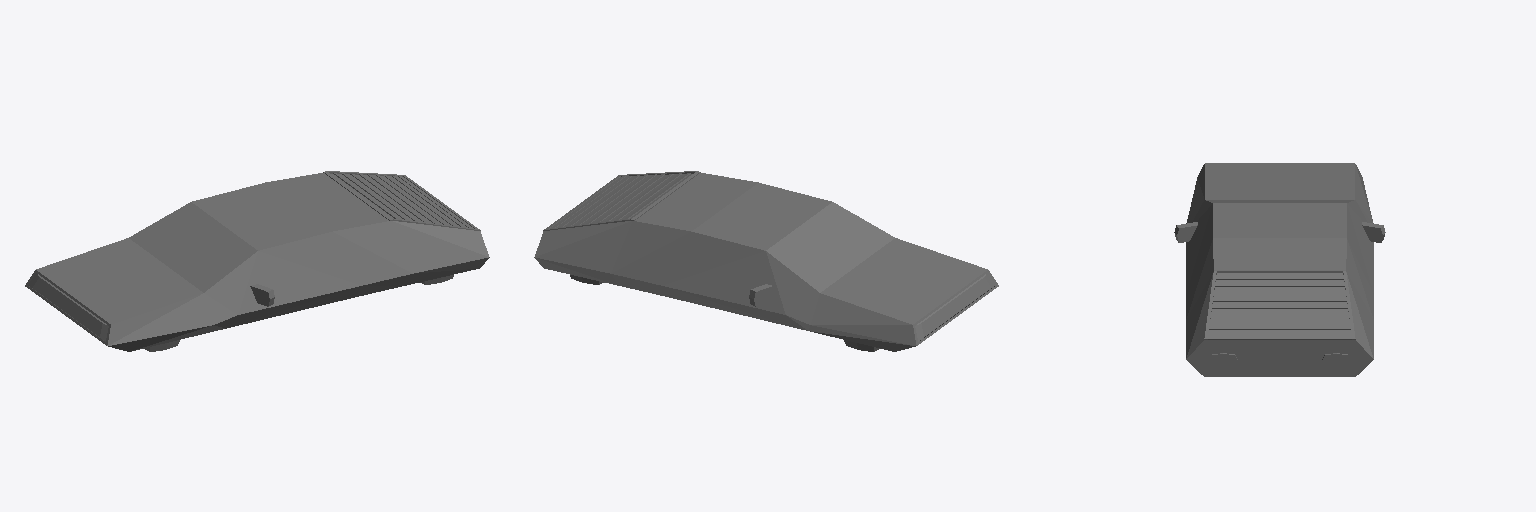
The model's file is RETRO_SHIP.obj.
The picture shows the model from 3 angles: view 1: azimuth 30°, elevation 25°; view 2: azimuth 150°, elevation 25°; view 3: azimuth 270°, elevation 25°; orthographic projection.
Visible parts, largest first — view 1: pCube35; view 2: pCube35; view 3: pCube35.
Boxes of the visible parts, <box> form: pCube35: <box>25,171,489,351</box>; pCube35: <box>534,171,998,351</box>; pCube35: <box>1174,163,1385,376</box>.
Bounding box in the file's own units: 11.34 × 2.2 × 5.47.